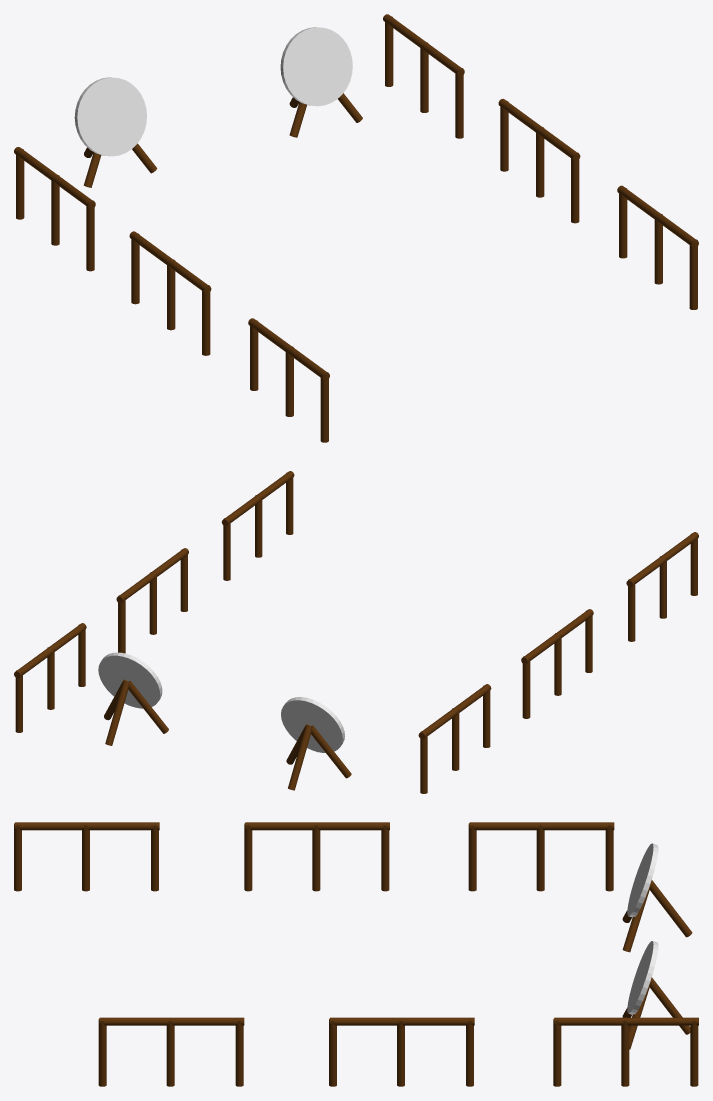
The model's file is ArcheryRange.fbx.
3 views of the same model, one above another, from view 1: azimuth 30°, elevation 25°; view 2: azimuth 150°, elevation 25°; view 3: azimuth 270°, elevation 25° (orthographic). The views are drawn at different scales.
Parts seen in each view (by area): view 1: Fence, Target; view 2: Fence, Target; view 3: Fence, Target.
Part boxes in pixels (<box>): Fence: <box>14,14,698,442</box>; Target: <box>74,27,362,187</box>; Fence: <box>14,471,698,793</box>; Target: <box>98,652,351,790</box>; Fence: <box>14,822,698,1086</box>; Target: <box>622,843,692,1049</box>.
Size of the model in its own units: 206 by 45.28 by 300.
